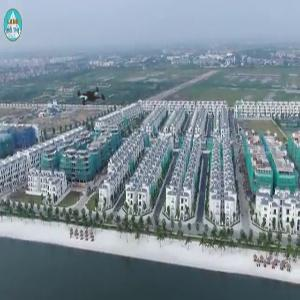drone: (64, 70, 120, 126)
